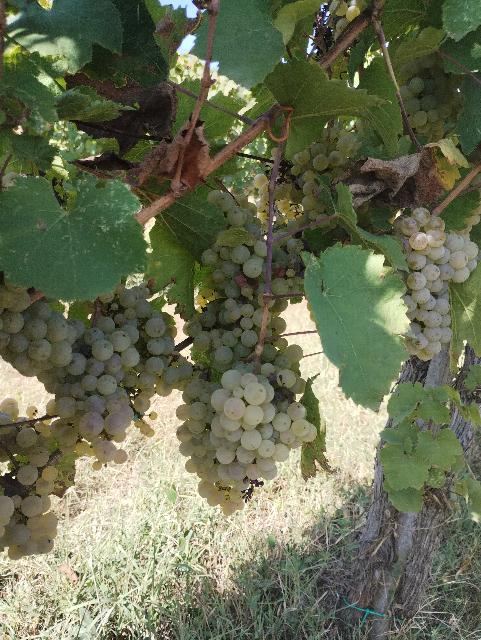grapes: (0, 289, 194, 468), (178, 369, 318, 515), (394, 208, 480, 361), (184, 288, 304, 376), (0, 446, 59, 560)
